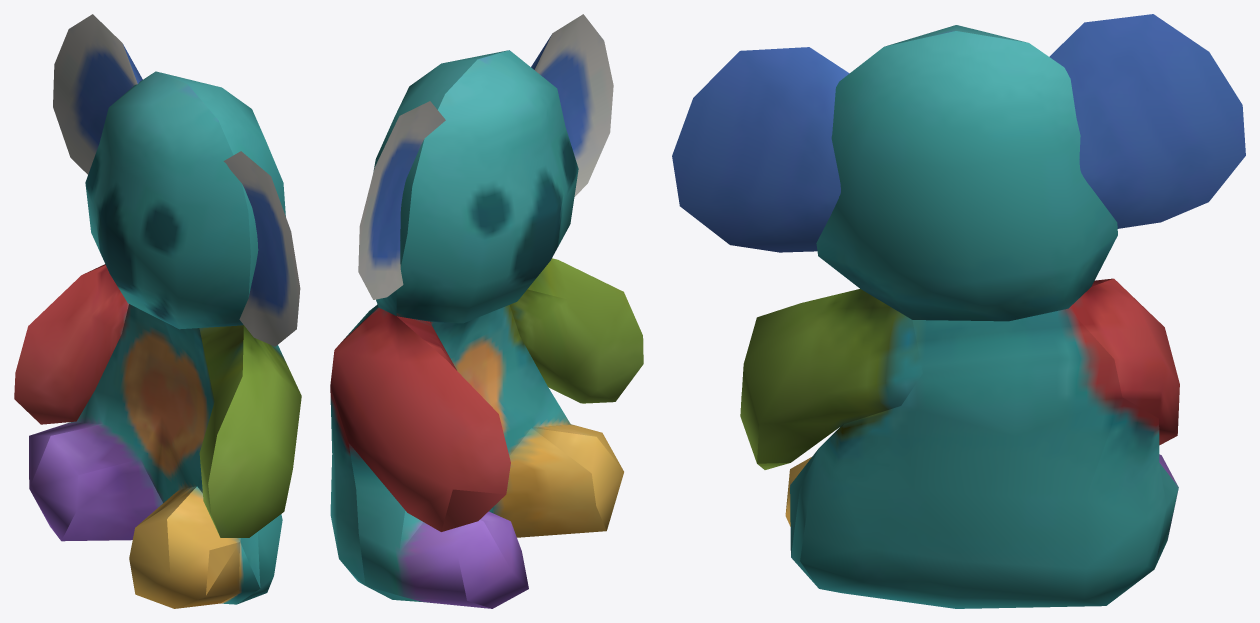
Rendered from koala_azul.fbx.
3 renders of one model, left to right at view 1: azimuth 30°, elevation 25°; view 2: azimuth 150°, elevation 25°; view 3: azimuth 270°, elevation 25°, orthographic. The views are drawn at different scales.
Visible parts, largest first — view 1: s4studio_mesh_0; view 2: s4studio_mesh_0; view 3: s4studio_mesh_0.
Boxes of the visible parts, x1,y1,x2,y2 form: s4studio_mesh_0: (14,14,301,608); s4studio_mesh_0: (330,14,643,608); s4studio_mesh_0: (672,14,1245,608).
Size of the model in its own units: 7.27 by 18.23 by 16.53.
Materials: 1 (1 with a texture image).
